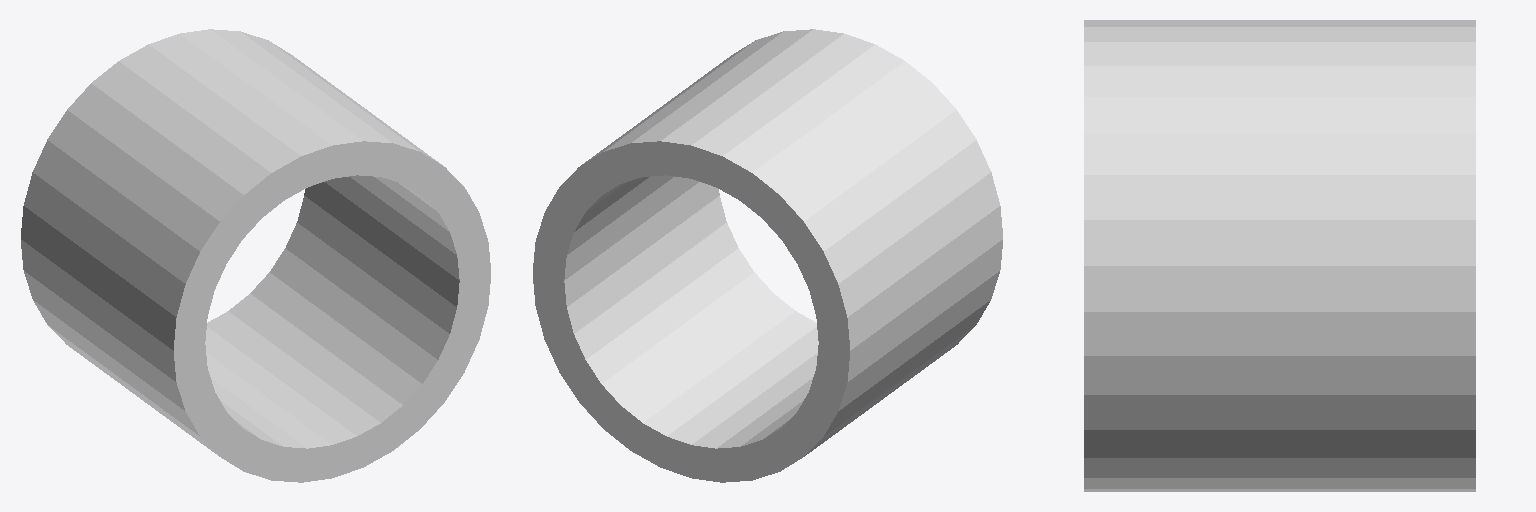
URDF robot description (base):
<robot name="base">

	<link name="base">
		<inertial>
			<mass value="0.1"/>
			<inertia ixx="0.1" ixy="0" ixz="0" iyy="0.1" iyz="0" izz="0.1"/>
		</inertial>
		<visual>
			<origin xyz="0 0 0"/>
	      	<geometry>
	        	<mesh filename="../obj/cylinder_base.obj"/>
	      	</geometry>
      		<material name="panda_white">
      			<color rgba="0.91 0.91 0.91 1."/>
  			</material>
		</visual>
		<collision concave="yes">
      		<origin xyz="0 0 0"/>
      		<geometry>
        		<mesh filename="../obj/cylinder_base.obj"/>
      		</geometry>
      		<material name="panda_white"/>
		</collision>
	</link>

</robot>

--- Facts derived from the render (not from the file) ---
Views: 3 orthographic renders of the robot side by side, from view 1: azimuth 30°, elevation 25°; view 2: azimuth 150°, elevation 25°; view 3: azimuth 270°, elevation 25°.
Model base with 1 links and 0 joints (none), rooted at base, posed every joint at zero.
Visible links, largest first — view 1: base; view 2: base; view 3: base.
Link boxes in pixels (bbox=[...]): base: bbox=[21, 29, 490, 482]; base: bbox=[533, 29, 1002, 482]; base: bbox=[1084, 20, 1475, 491].
Size in the robot's own frame: 2.4 by 2 by 2.4 metres.
1 mesh visuals loaded from 1 distinct referenced files (1 OBJ).